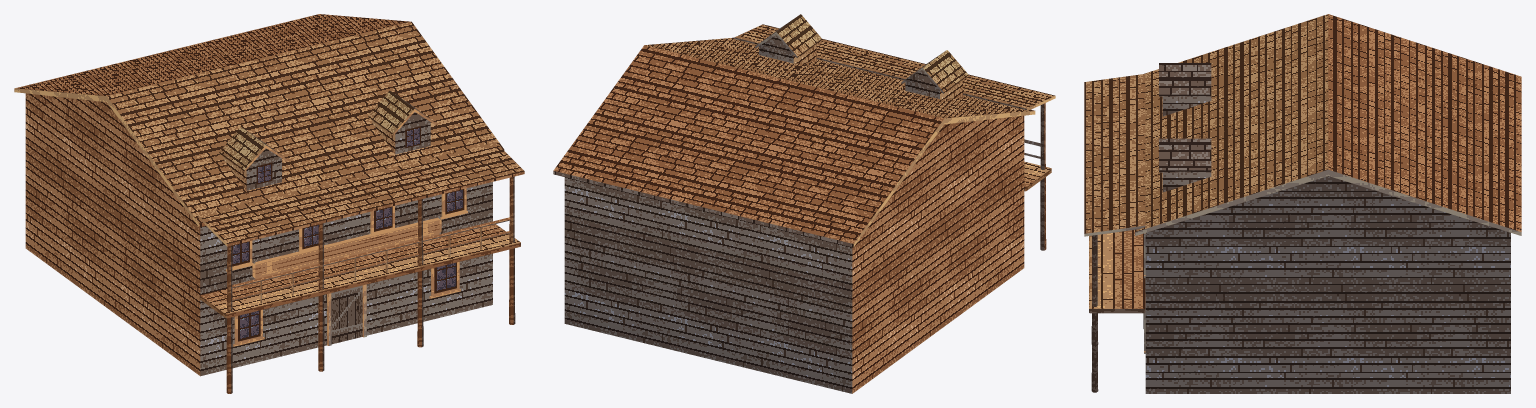
Rendered from wtown.hotel__grand.glb.
The picture shows the model from 3 angles, left to right: view 1: azimuth 30°, elevation 25°; view 2: azimuth 150°, elevation 25°; view 3: azimuth 270°, elevation 25°; orthographic projection. The views are drawn at different scales.
Parts seen in each view (by area): view 1: kit_body, kit_roof, kit_veranda, kit_veranda_roof, kit_card_panes, kit_dormer_roofs, kit_dormers, kit_windows, kit_trim; view 2: kit_body, kit_roof, kit_veranda_roof, kit_dormer_roofs, kit_dormers, kit_veranda; view 3: kit_body, kit_roof, kit_veranda_roof, kit_veranda, kit_dormer_roofs, kit_dormers.
Part boxes in pixels (x1,y1,x2,y2): kit_body: (25, 93, 492, 376); kit_roof: (14, 14, 504, 227); kit_veranda: (199, 176, 520, 393); kit_veranda_roof: (198, 142, 524, 246); kit_card_panes: (232, 126, 464, 344); kit_dormer_roofs: (219, 90, 436, 171); kit_dormers: (223, 112, 430, 190); kit_windows: (226, 188, 467, 346); kit_trim: (252, 217, 441, 345); kit_body: (564, 115, 1024, 393); kit_roof: (553, 37, 1035, 247); kit_veranda_roof: (734, 24, 1055, 110); kit_dormer_roofs: (755, 14, 968, 93); kit_dormers: (759, 34, 962, 99); kit_veranda: (1024, 103, 1051, 250); kit_body: (1145, 176, 1510, 393); kit_roof: (1135, 14, 1521, 235); kit_veranda_roof: (1084, 74, 1145, 236); kit_veranda: (1089, 230, 1145, 392); kit_dormer_roofs: (1159, 63, 1211, 172); kit_dormers: (1162, 96, 1211, 192).
Size of the model in its own units: 12.1 by 8.25 by 14.37.
Materials: 10 (10 with a texture image).
